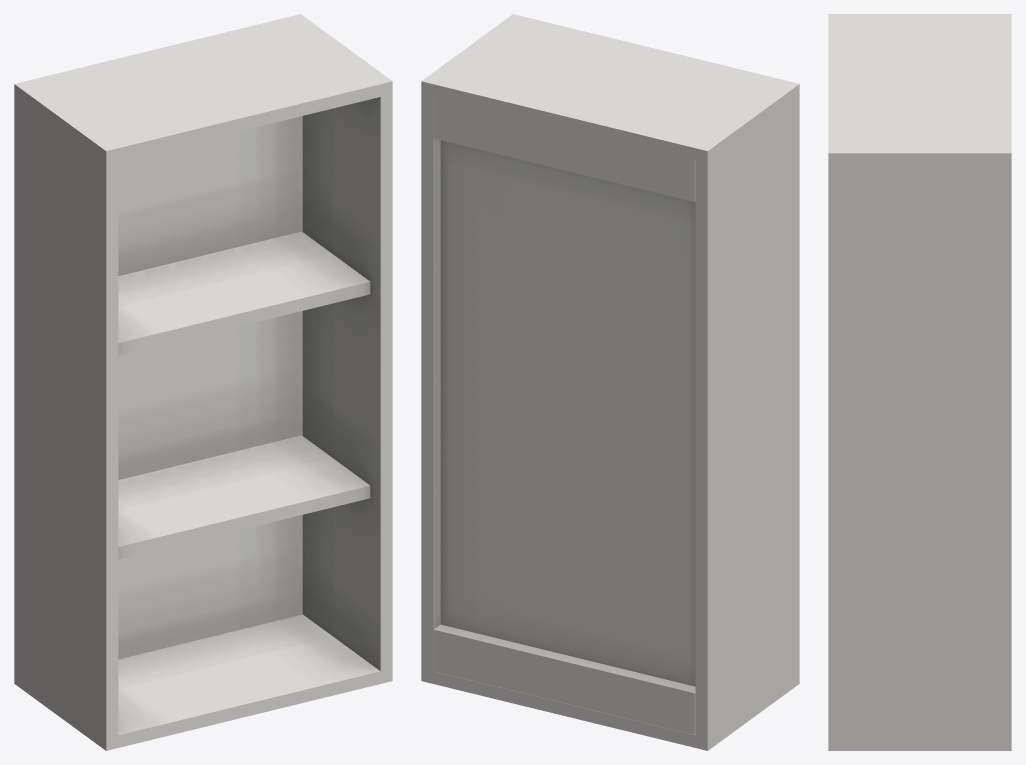
Rendered from vanity-wall-1-door-doors-off.glb.
3 views of the same model, side by side, from view 1: azimuth 30°, elevation 25°; view 2: azimuth 150°, elevation 25°; view 3: azimuth 270°, elevation 25° (orthographic).
Parts seen in each view (by area): view 1: part_0; view 2: part_0; view 3: part_0.
Part boxes in pixels (bbox=[...]): part_0: bbox=[14, 14, 392, 750]; part_0: bbox=[421, 14, 799, 750]; part_0: bbox=[828, 14, 1011, 750].
Size of the model in its own units: 0.4572 by 0.9144 by 0.254.
1 material, 1 textured.
